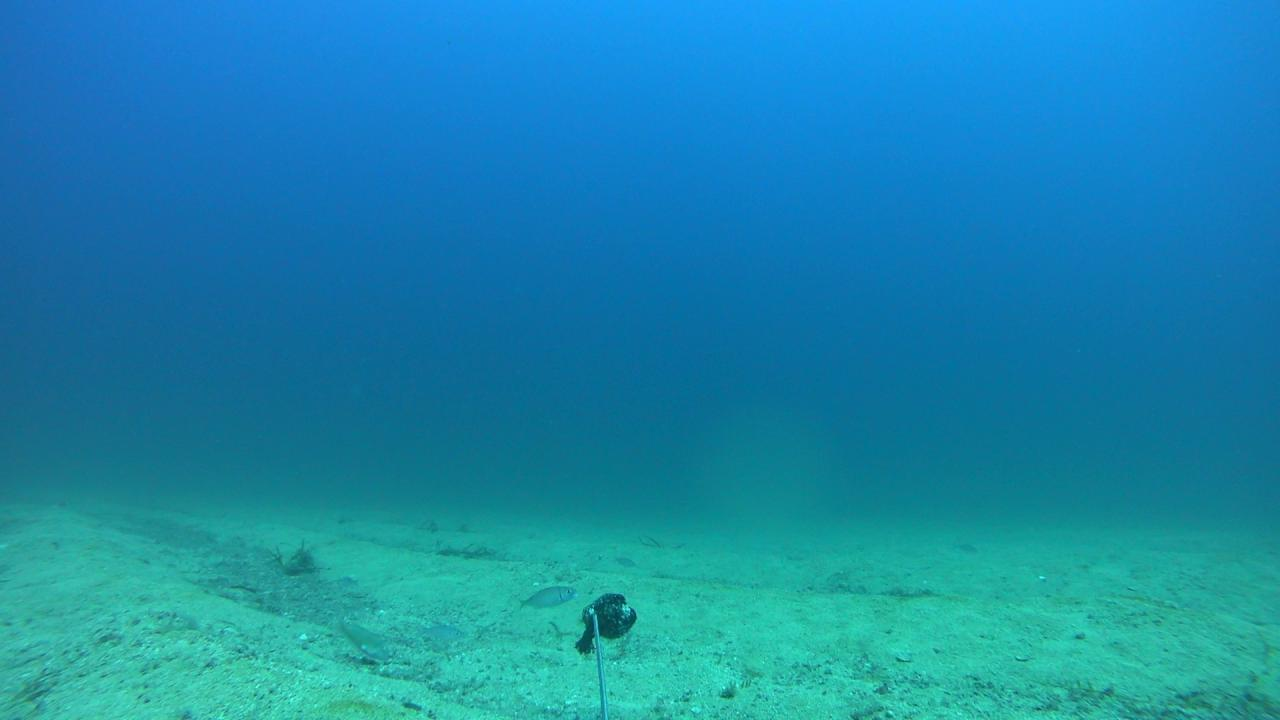pagellus: (517, 584, 578, 613), (409, 616, 464, 644)
raor: (332, 616, 392, 664)
